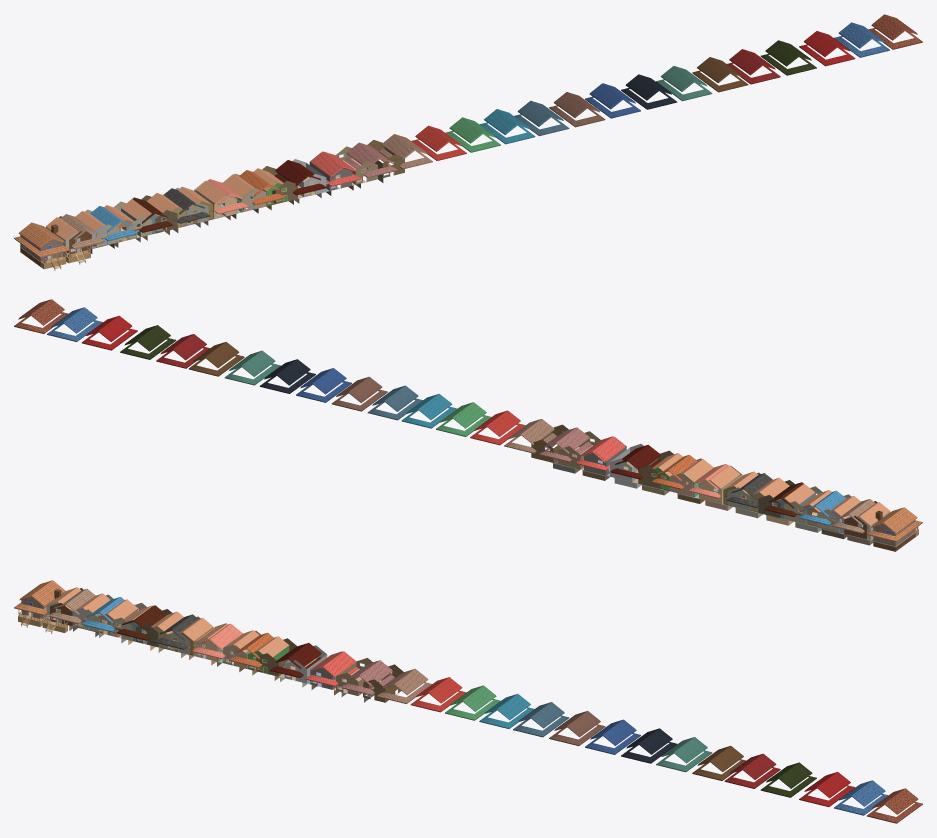
The model's file is House_004_Custom.fbx.
3 renders of one model, top to bottom at view 1: azimuth 30°, elevation 25°; view 2: azimuth 150°, elevation 25°; view 3: azimuth 330°, elevation 25°, orthographic.
Parts seen in each view (by area): view 1: House_004_Roof_1_v25, House_004_Roof_1_v1, House_004_Roof_1_v12, House_004_Roof_1_v13, House_004_Roof_1_v14, House_004_Roof_1_v15, House_004_Roof_1_v17, House_004_Roof_1_v19, House_004_Roof_1_v21, House_004_Roof_1_v22, House_004_Roof_1_v24, House_004_Roof_1_v18 (+7 smaller); view 2: House_004_Roof_1_v18, House_004_Roof_1_v12, House_004_Roof_1_v16, House_004_Roof_1_v24, House_004_Roof_1_v23, House_004_Roof_1_v25, House_004_Roof_1_v13, House_004_Roof_1_v17, House_004_Roof_1_v19, House_004_Roof_1_v20, House_004_Roof_1_v21, House_004_Roof_1_v14 (+7 smaller); view 3: house_004_InsideWalls_v10, House_004_Roof_1_v18, House_004_Roof_1_v21, House_004_Roof_1_v11, House_004_Roof_1_v24, House_004_Roof_1_v25, House_004_Roof_1_v13, House_004_Roof_1_v15, House_004_Roof_1_v17, House_004_Roof_1_v19, House_004_Roof_1_v20, House_004_Roof_1_v23 (+12 smaller).
Part boxes in pixels (x1,y1,x2,y2): House_004_Roof_1_v25: (871, 14, 917, 40); House_004_Roof_1_v1: (18, 222, 64, 248); House_004_Roof_1_v12: (415, 125, 461, 151); House_004_Roof_1_v13: (449, 117, 495, 143); House_004_Roof_1_v14: (484, 109, 529, 134); House_004_Roof_1_v15: (517, 100, 563, 126); House_004_Roof_1_v17: (589, 83, 635, 109); House_004_Roof_1_v19: (660, 66, 706, 91); House_004_Roof_1_v21: (729, 49, 775, 75); House_004_Roof_1_v22: (765, 40, 811, 66); House_004_Roof_1_v24: (838, 22, 884, 48); House_004_Roof_1_v18: (625, 74, 671, 100); House_004_Roof_1_v18: (264, 359, 310, 385); House_004_Roof_1_v12: (474, 410, 520, 436); House_004_Roof_1_v16: (336, 376, 382, 402); House_004_Roof_1_v24: (51, 307, 97, 333); House_004_Roof_1_v23: (86, 315, 132, 341); House_004_Roof_1_v25: (18, 299, 64, 325); House_004_Roof_1_v13: (440, 402, 486, 428); House_004_Roof_1_v17: (300, 368, 346, 394); House_004_Roof_1_v19: (229, 350, 275, 376); House_004_Roof_1_v20: (193, 342, 239, 367); House_004_Roof_1_v21: (161, 334, 206, 360); House_004_Roof_1_v14: (406, 394, 452, 419); house_004_InsideWalls_v10: (247, 636, 289, 673); House_004_Roof_1_v18: (626, 728, 672, 754); House_004_Roof_1_v21: (730, 753, 776, 779); House_004_Roof_1_v11: (382, 668, 428, 694); House_004_Roof_1_v24: (839, 780, 885, 806); House_004_Roof_1_v25: (872, 788, 918, 814); House_004_Roof_1_v13: (450, 685, 496, 711); House_004_Roof_1_v15: (518, 702, 564, 728); House_004_Roof_1_v17: (590, 719, 636, 745); House_004_Roof_1_v19: (661, 737, 707, 763); House_004_Roof_1_v20: (697, 746, 743, 772); House_004_Roof_1_v23: (804, 772, 850, 798).
Size of the model in its own units: 16.83 by 0.4938 by 0.9954.
